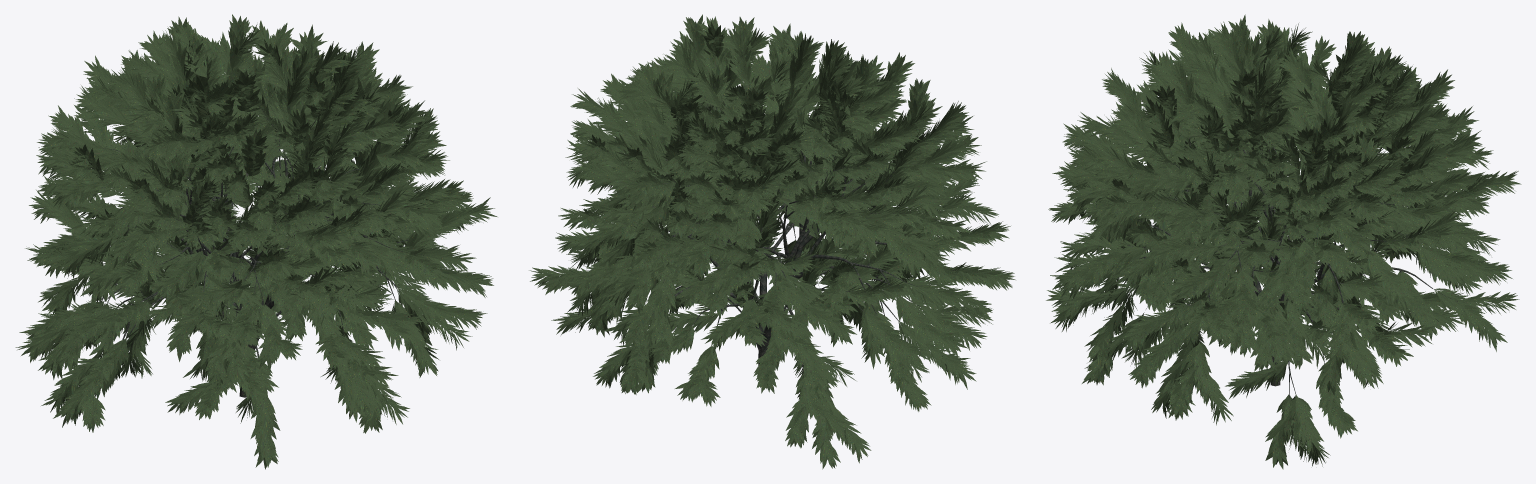
The model's file is Tree2Opt.glb.
3 renders of one model, left to right at view 1: azimuth 30°, elevation 25°; view 2: azimuth 150°, elevation 25°; view 3: azimuth 270°, elevation 25°, orthographic. The views are drawn at different scales.
Visible parts, largest first — view 1: leaves, tree; view 2: leaves, tree; view 3: leaves, tree.
Boxes of the visible parts, box(x1,y1,x2,y2) form: leaves: box(15, 14, 497, 469); tree: box(62, 77, 428, 397); leaves: box(529, 14, 1015, 469); tree: box(598, 82, 970, 380); leaves: box(1046, 14, 1521, 469); tree: box(1100, 68, 1457, 398).
Size of the model in its own units: 9.14 by 7.59 by 8.77.
Materials: 2 (2 with a texture image).
